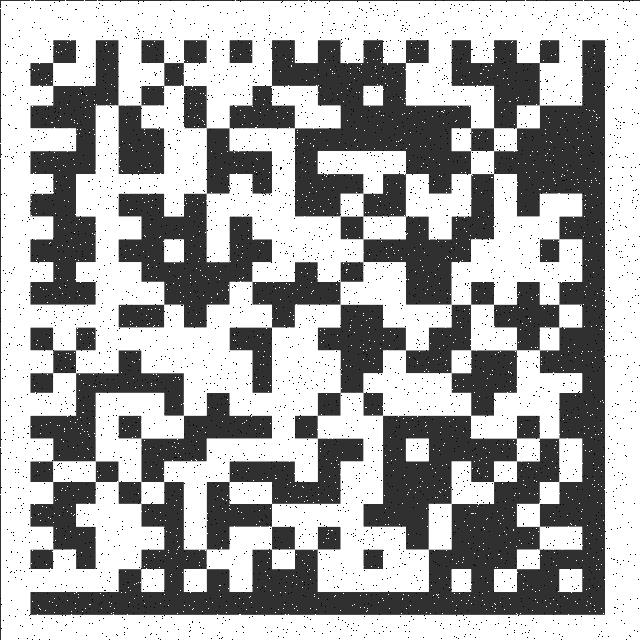datamatrix: (16, 26, 614, 617)
